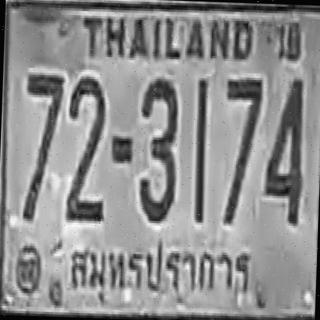N01: (192, 77, 208, 221)
N02: (64, 75, 106, 222)
N03: (137, 76, 178, 222)
N04: (262, 76, 305, 223)
N07: (21, 72, 64, 222), (221, 76, 262, 224), (222, 76, 262, 182)
P57: (58, 226, 255, 311)
